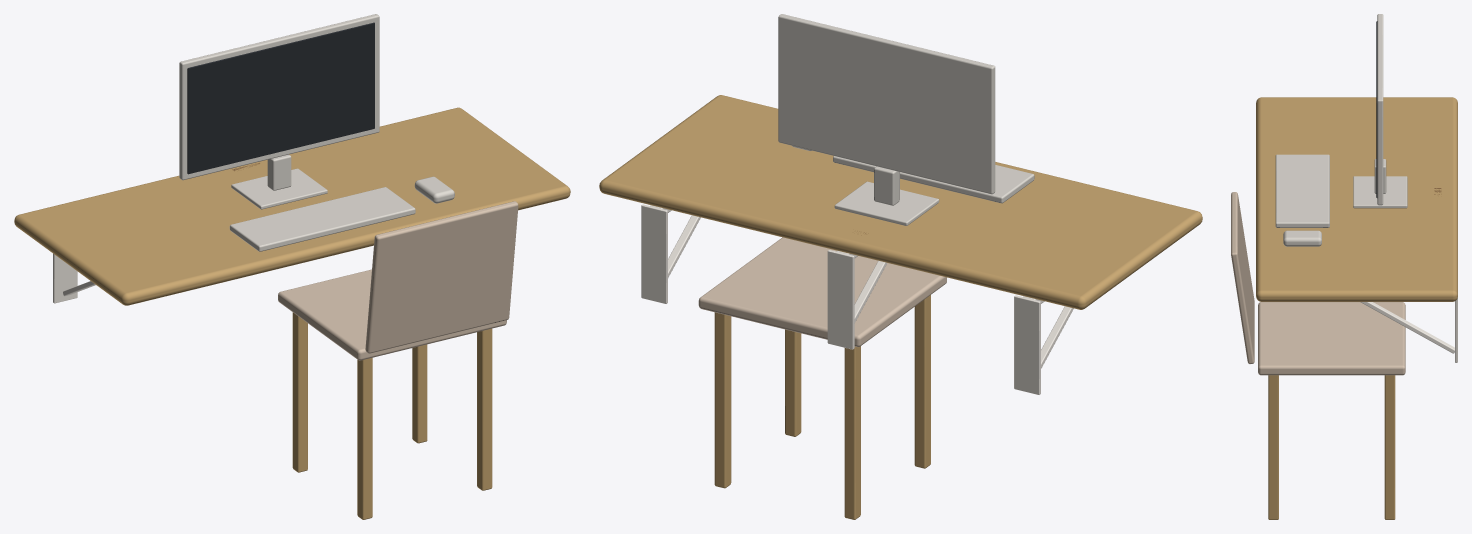
File: desk-wall-oak.glb
3 views of the same model, side by side, from view 1: azimuth 30°, elevation 25°; view 2: azimuth 150°, elevation 25°; view 3: azimuth 270°, elevation 25° (orthographic). The views are drawn at different scales.
Parts seen in each view (by area): view 1: desk-top, computer-screen, chair-back, computer-keyboard, chair-seat, computer-bezel, chair-leg-2, chair-leg-3, chair-leg-0, computer-base, chair-leg-1, desk-bracket-0-plate (+2 smaller); view 2: desk-top, computer-bezel, chair-seat, chair-leg-1, chair-leg-0, chair-leg-2, desk-bracket-1-plate, desk-bracket-0-plate, desk-bracket-2-plate, computer-base, computer-keyboard, chair-leg-3 (+1 smaller); view 3: desk-top, chair-seat, computer-keyboard, chair-back, chair-leg-1, chair-leg-3, computer-base, computer-bezel, desk-bracket-2-strut, computer-mouse, computer-screen.
Part boxes in pixels (x1,y1,x2,y2): desk-top: (14,107,570,305); computer-screen: (187,22,374,174); chair-back: (365,201,518,353); computer-keyboard: (229,187,415,251); chair-seat: (278,269,506,360); computer-bezel: (179,14,379,180); chair-leg-2: (357,358,372,519); chair-leg-3: (477,328,492,490); chair-leg-0: (292,312,307,472); computer-base: (231,168,327,209); chair-leg-1: (412,344,427,443); desk-bracket-0-plate: (53,253,77,303); desk-top: (599,95,1202,309); computer-bezel: (778,14,995,194); chair-seat: (698,237,946,347); chair-leg-1: (714,312,731,488); chair-leg-0: (844,346,860,519); chair-leg-2: (914,295,930,468); desk-bracket-1-plate: (827,250,854,349); desk-bracket-0-plate: (1014,295,1040,394); desk-bracket-2-plate: (641,204,667,303); computer-base: (834,181,939,225); computer-keyboard: (833,156,1034,203); chair-leg-3: (785,329,801,436); desk-top: (1256,97,1457,301); chair-seat: (1258,302,1405,375); computer-keyboard: (1275,154,1329,227); chair-back: (1231,192,1254,363); chair-leg-1: (1384,375,1395,519); chair-leg-3: (1268,375,1278,519); computer-base: (1353,176,1407,208); computer-bezel: (1377,14,1383,205); desk-bracket-2-strut: (1360,302,1454,353); computer-mouse: (1283,230,1321,246); computer-screen: (1376,21,1377,197).
Size of the model in its own units: 1.2 by 1.13 by 0.5847.
